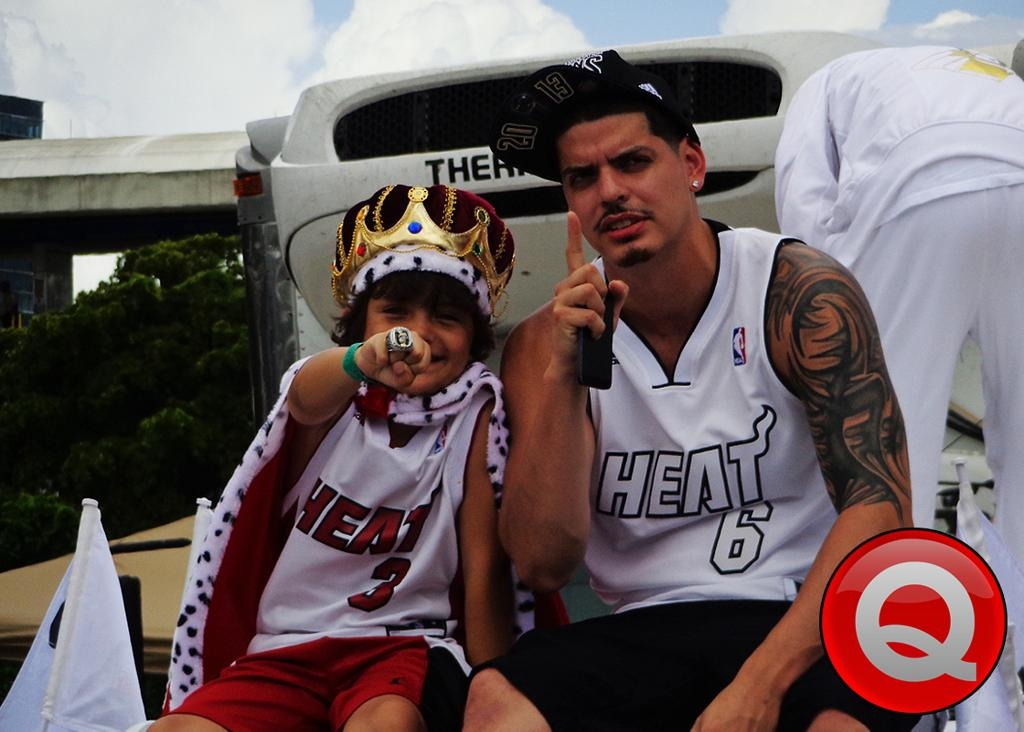human_face: (564, 122, 688, 266), (368, 260, 474, 396)
